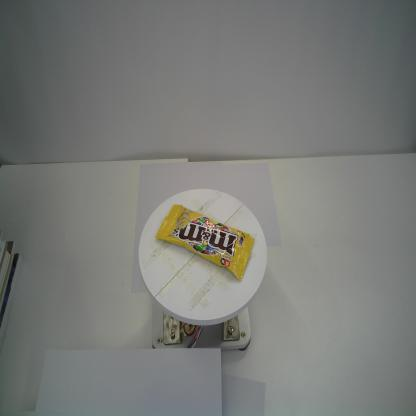Chocolate: (154, 203, 255, 282)
